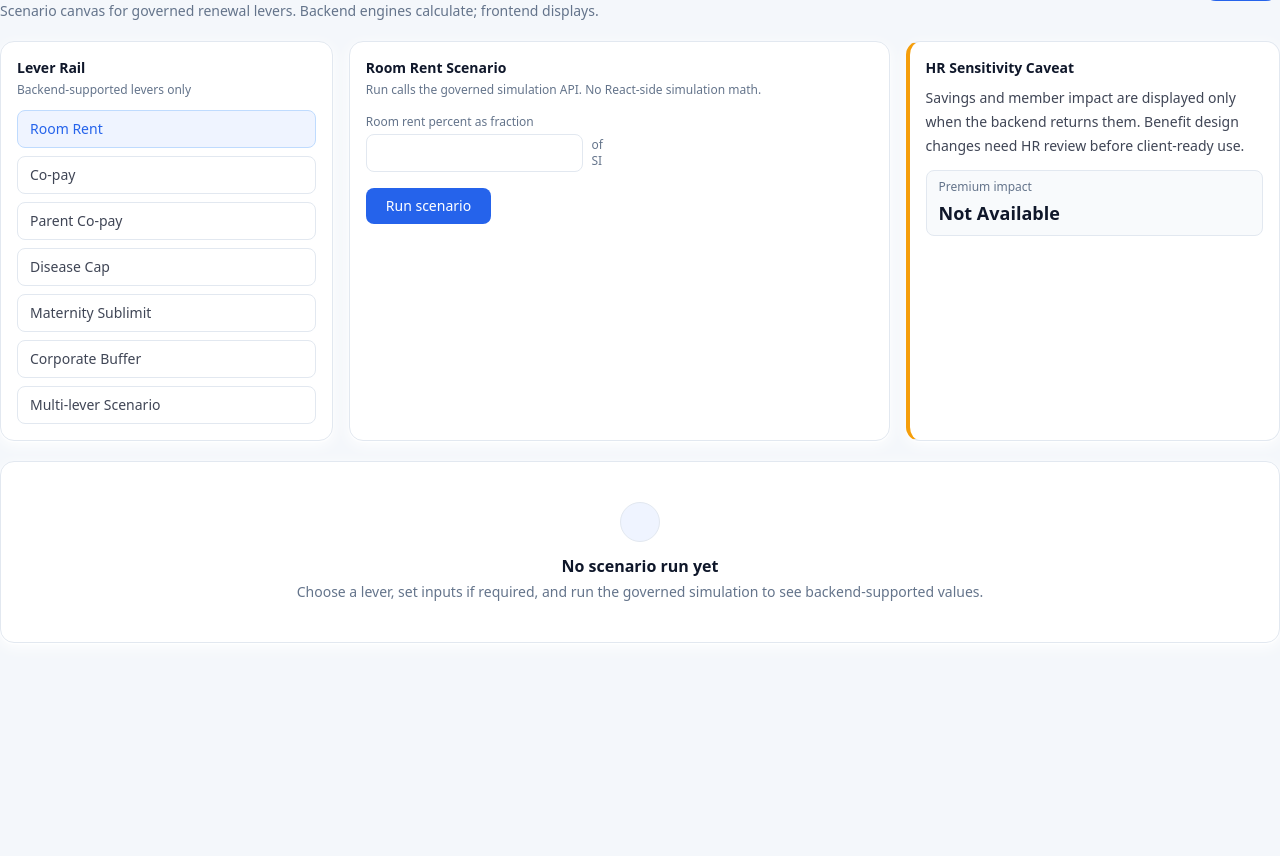
Test: Savings Sandbox (API-driven) › disease-cap shows employee gap risk
The image size is (1280, 856).
Click the button with test id "lever-disease-cap" at point(70, 266), box x1=17 y1=248 x2=316 y2=286
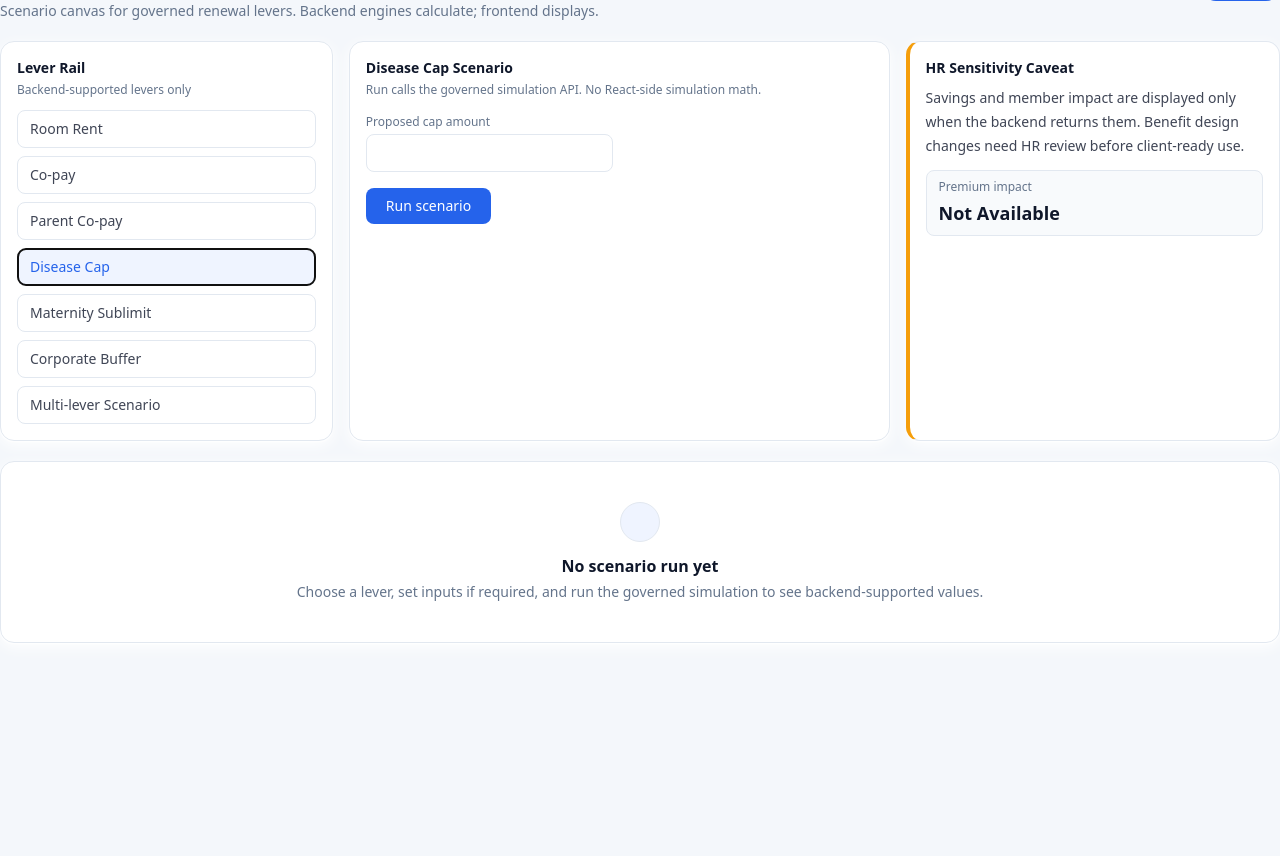
Type "500000" into the number field labelled "Proposed cap amount" at point(490, 153), box x1=366 y1=134 x2=613 y2=172
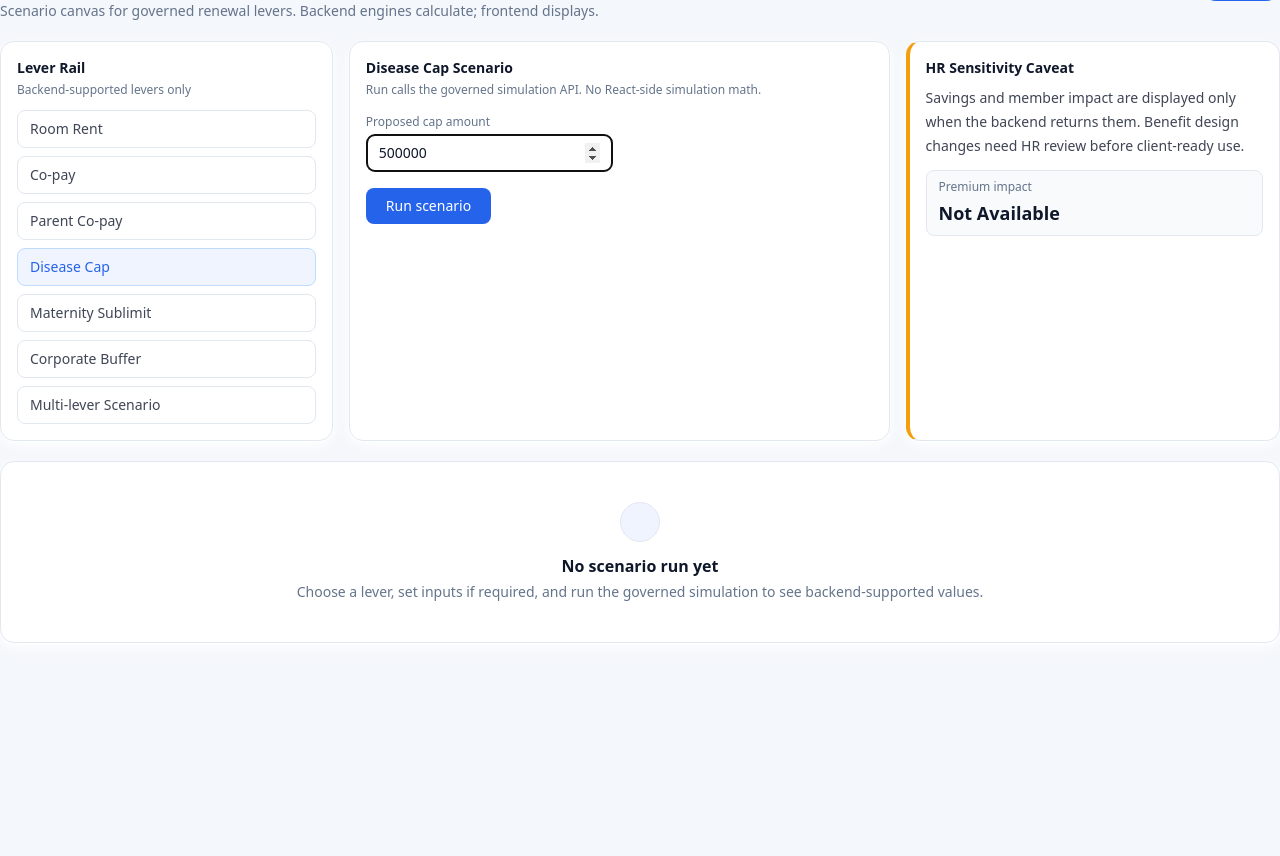
Click the button with test id "run-scenario" at point(428, 206), box x1=366 y1=188 x2=491 y2=224
(page scrolled)
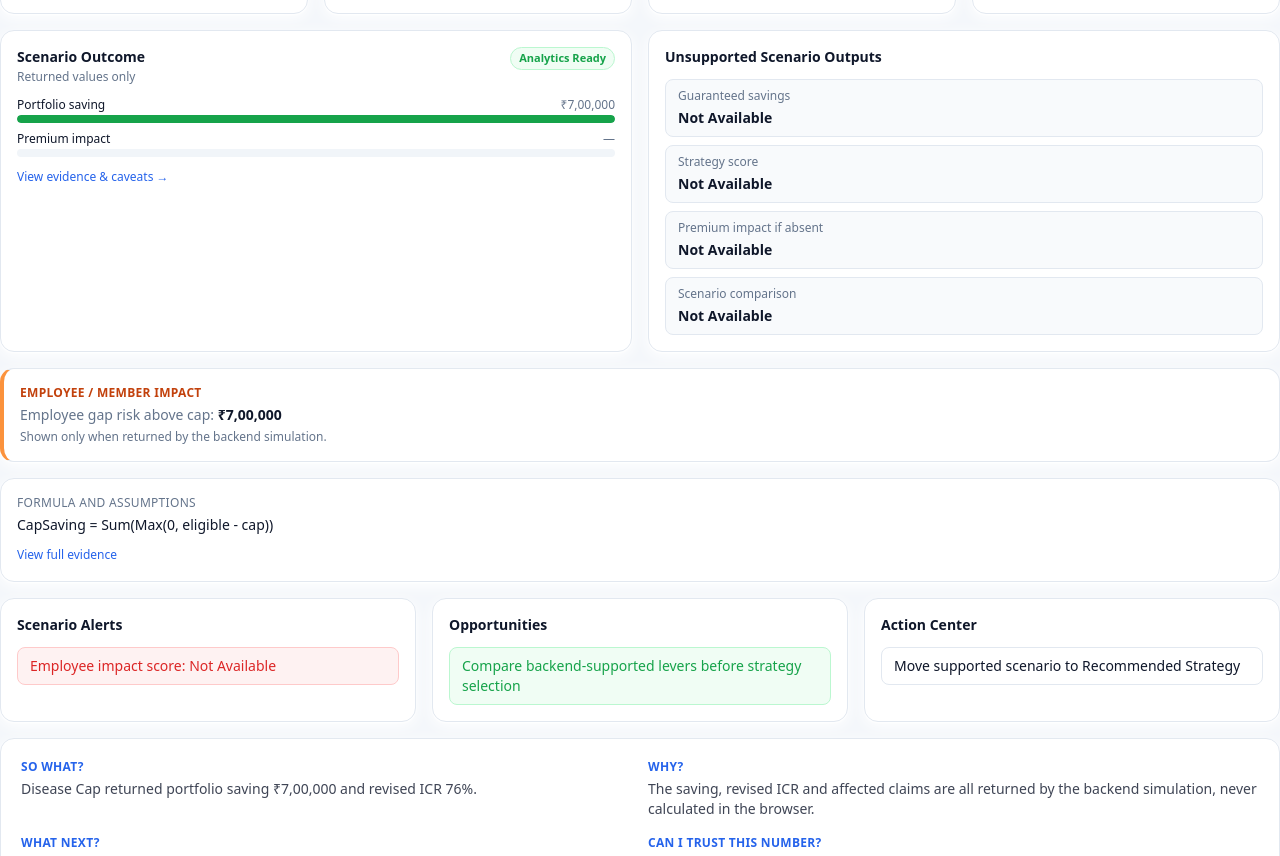
Check: the element with test id "employee-impact" shows "gap risk", box x1=20 y1=405 x2=210 y2=424
